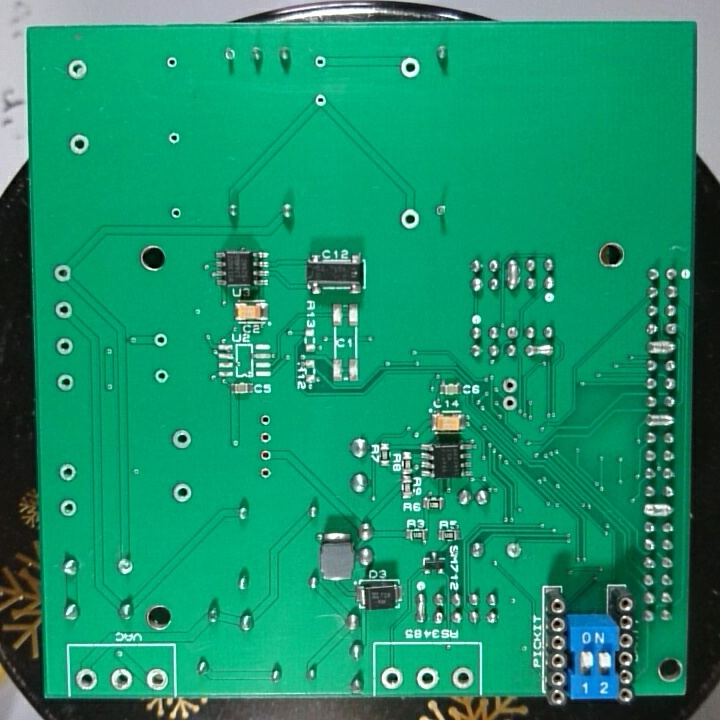F: (143, 663, 171, 695), (378, 663, 408, 692), (168, 478, 196, 508), (413, 662, 441, 692), (72, 664, 101, 692), (448, 663, 476, 690), (168, 424, 193, 453), (399, 53, 423, 83), (67, 132, 93, 159), (396, 206, 422, 232), (64, 57, 90, 83), (108, 665, 136, 689), (49, 262, 76, 285), (58, 495, 81, 522), (53, 334, 78, 358), (503, 539, 525, 566), (115, 555, 138, 580), (51, 298, 75, 321), (54, 460, 78, 483), (219, 43, 239, 67), (55, 370, 76, 392), (498, 394, 520, 414), (152, 366, 171, 387), (499, 376, 521, 394), (256, 428, 275, 448), (152, 329, 170, 350), (433, 200, 451, 220), (257, 410, 276, 428), (313, 52, 330, 72), (313, 92, 330, 110), (504, 324, 522, 341), (167, 205, 186, 221), (663, 266, 680, 283), (257, 446, 273, 464), (165, 128, 180, 147), (164, 54, 179, 70), (258, 466, 273, 481)
P: (644, 338, 680, 357), (523, 342, 558, 360), (642, 411, 676, 429), (413, 589, 430, 625), (641, 501, 674, 518), (505, 256, 521, 291)
